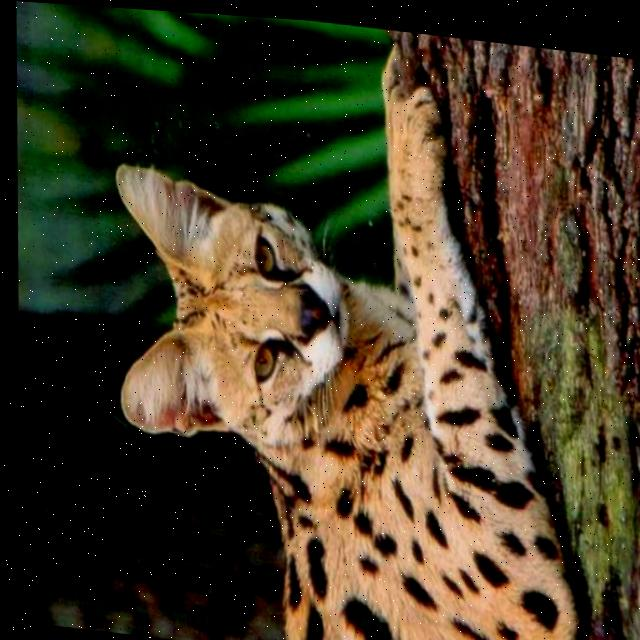Savannah: (71, 4, 608, 640)
